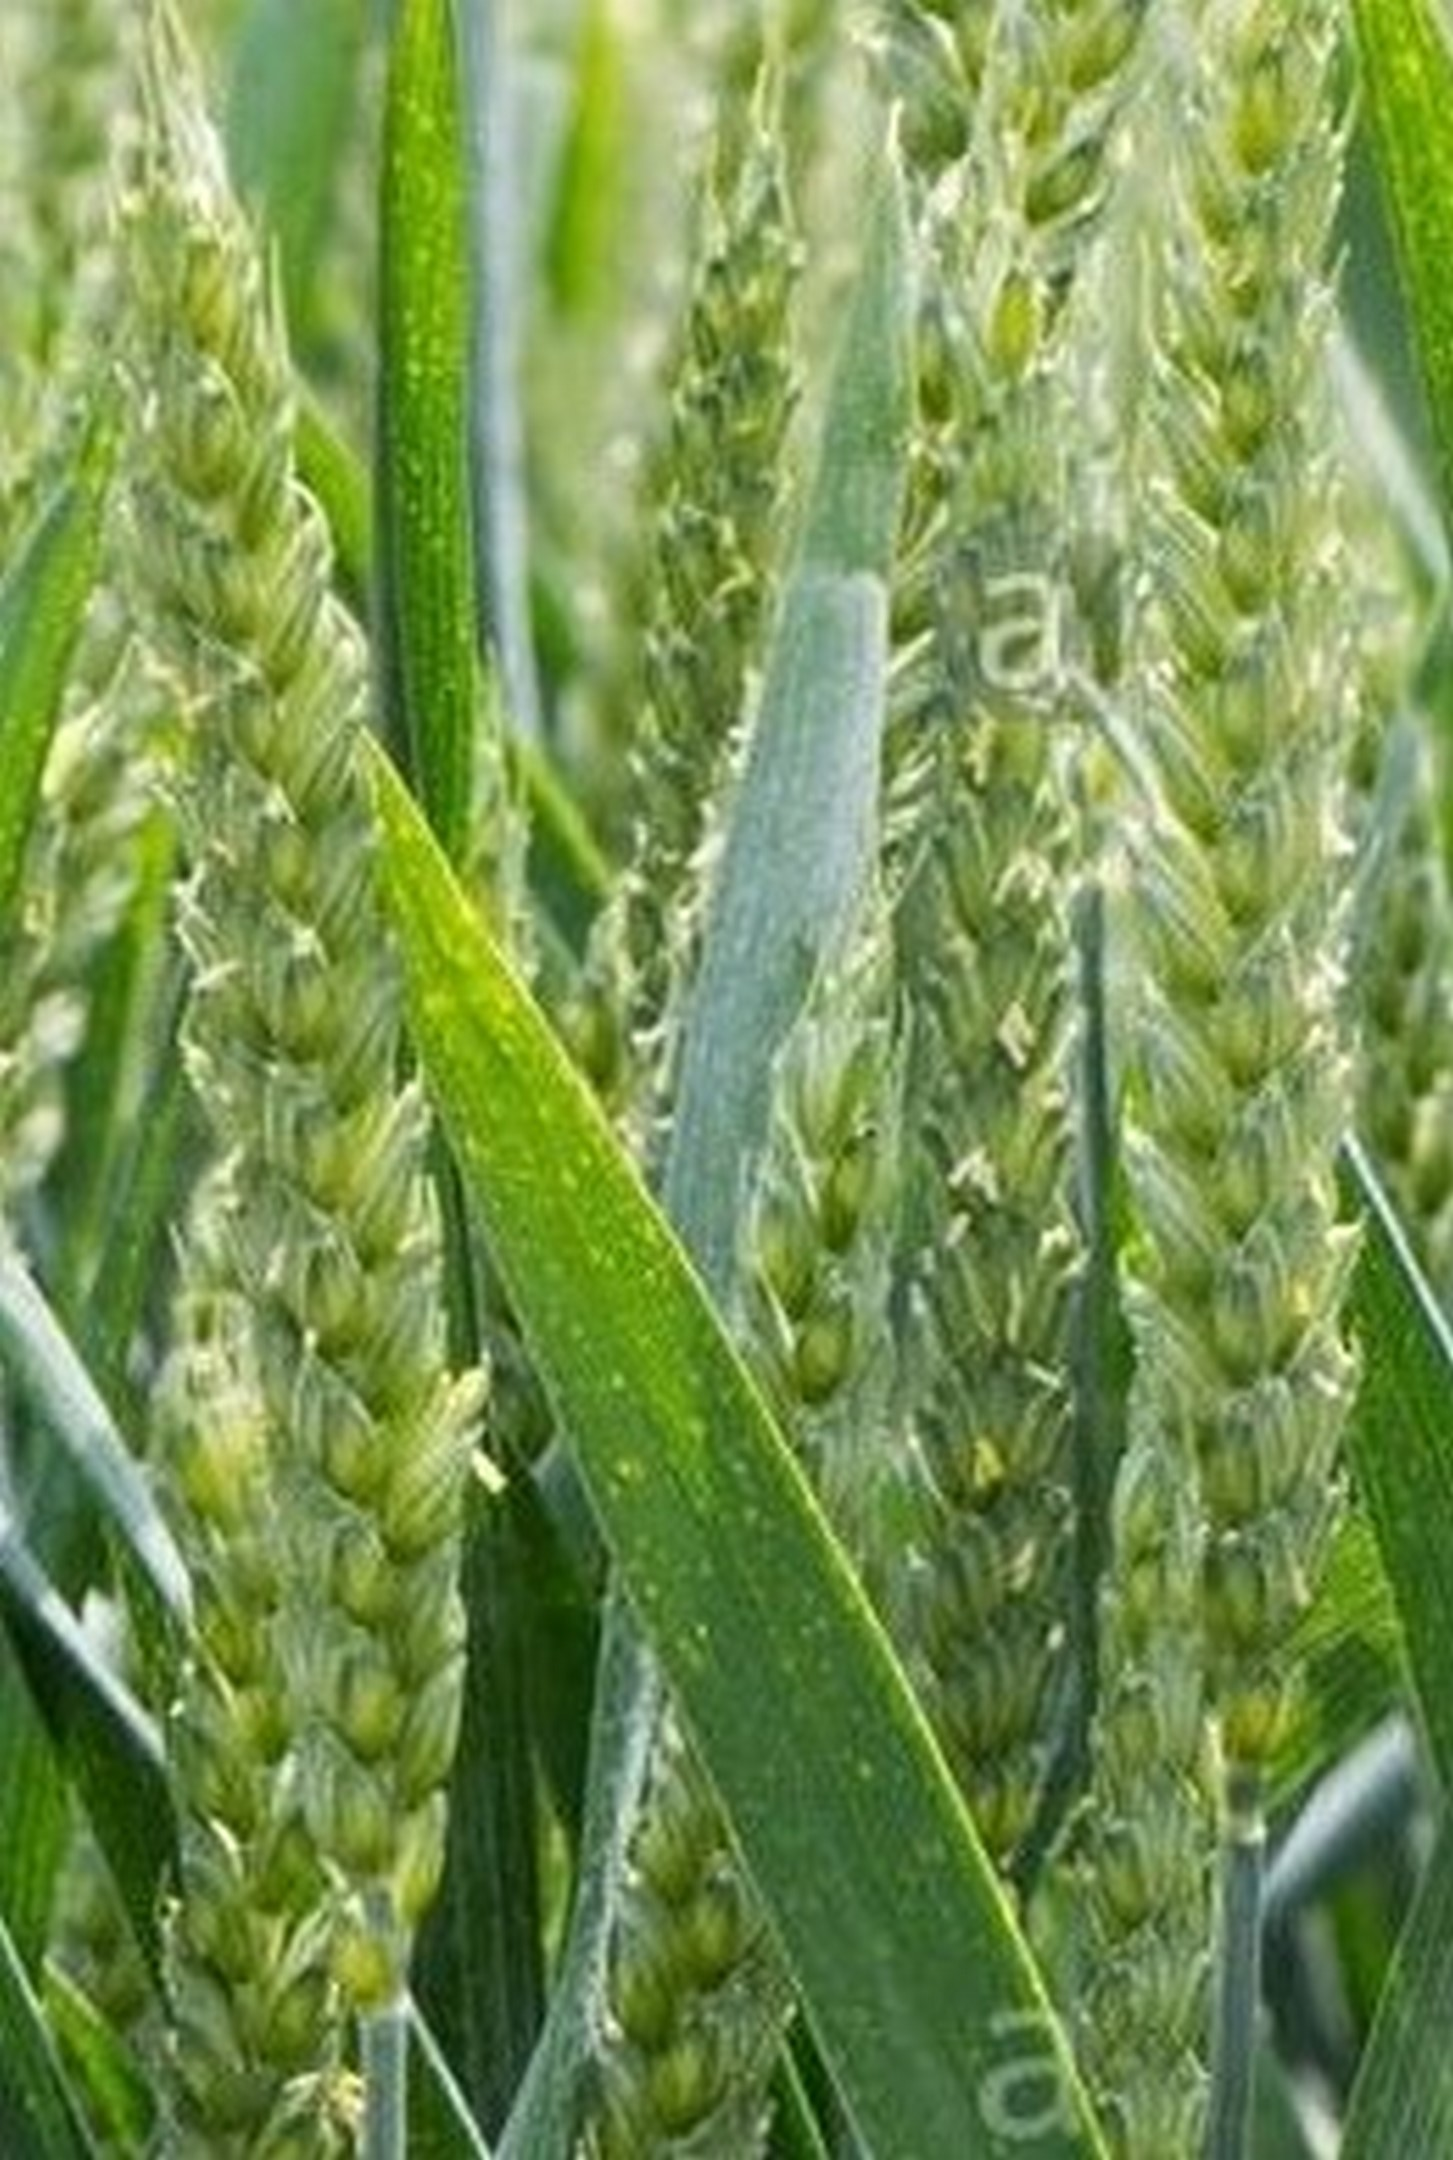Healthy Wheat: (89, 149, 511, 1852), (1104, 2, 1396, 1680)
